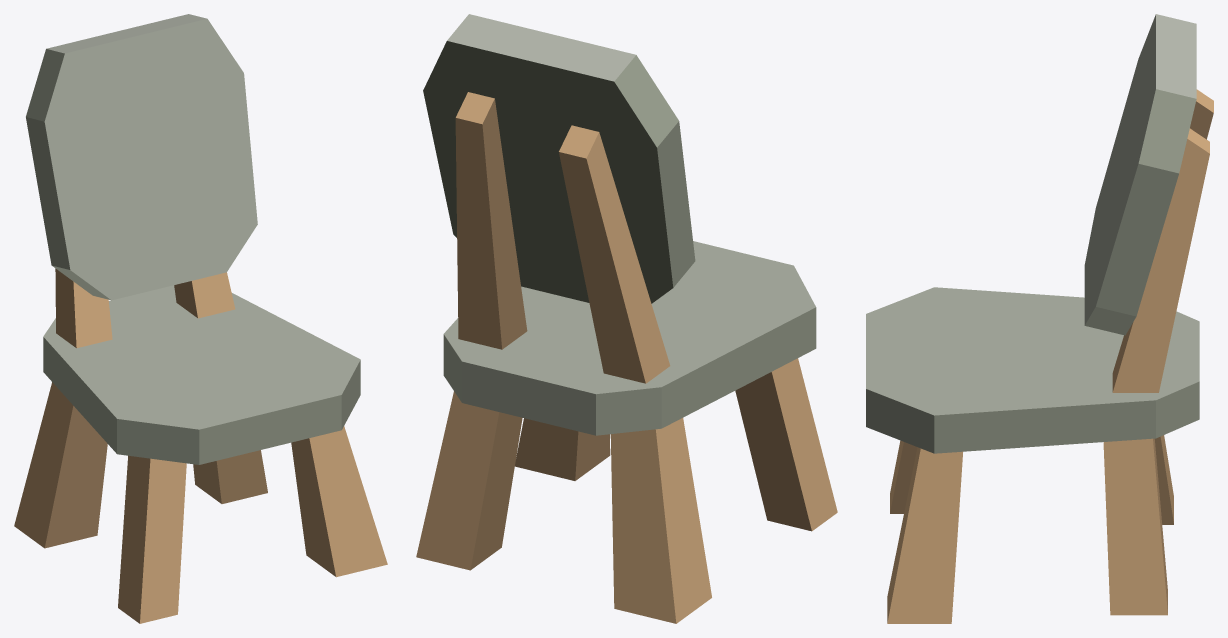
File: Chair_A1.fbx
3 renders of one model, left to right at view 1: azimuth 30°, elevation 25°; view 2: azimuth 150°, elevation 25°; view 3: azimuth 270°, elevation 25°, orthographic. The views are drawn at different scales.
Parts seen in each view (by area): view 1: Chair_A1; view 2: Chair_A1; view 3: Chair_A1.
Boxes of the visible parts, box(x1,y1,x2,y2) form: Chair_A1: box(14, 14, 387, 623); Chair_A1: box(416, 14, 837, 623); Chair_A1: box(866, 14, 1213, 623).
Size of the model in its own units: 64.14 by 115 by 71.88.
